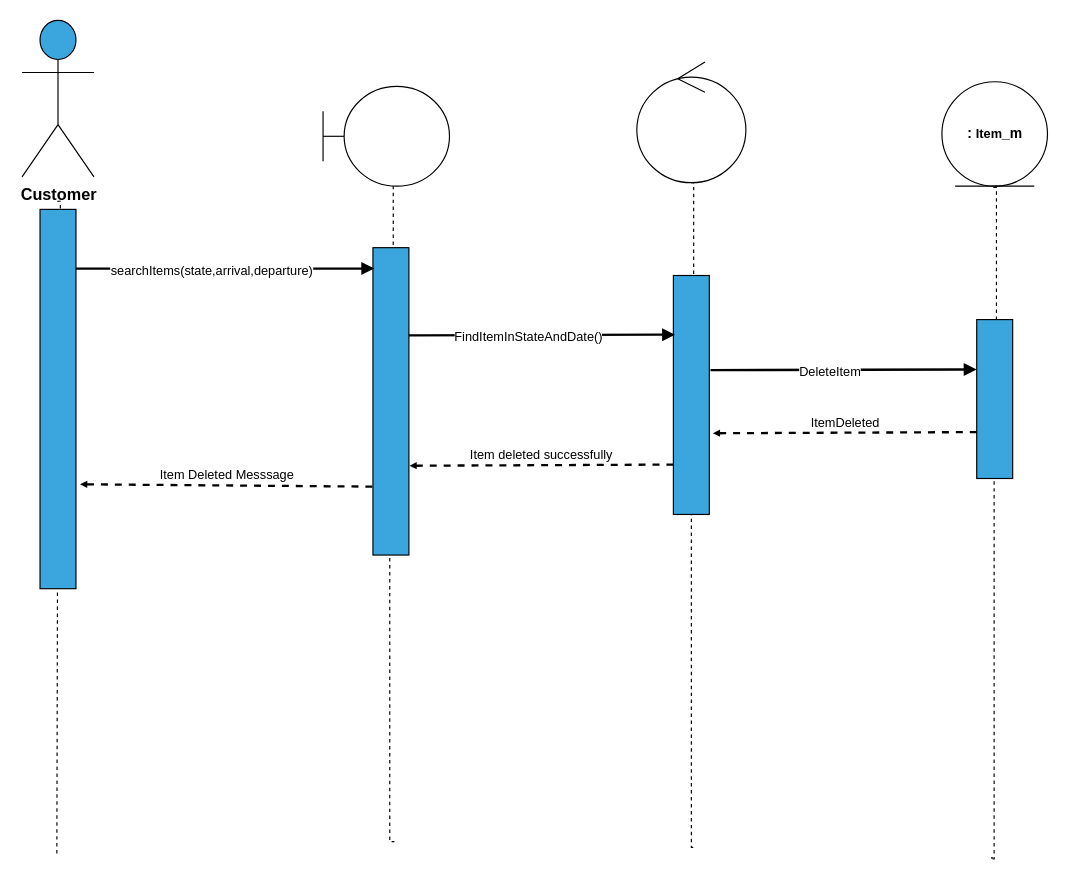
The diagram is 1067 pixels wide and 880 high, and some of its shapes have lost their labels. Each missing label, with the centre of its shape:
: Customer Home_v: (385,135)
: CustomerHome Controller: (691,122)
